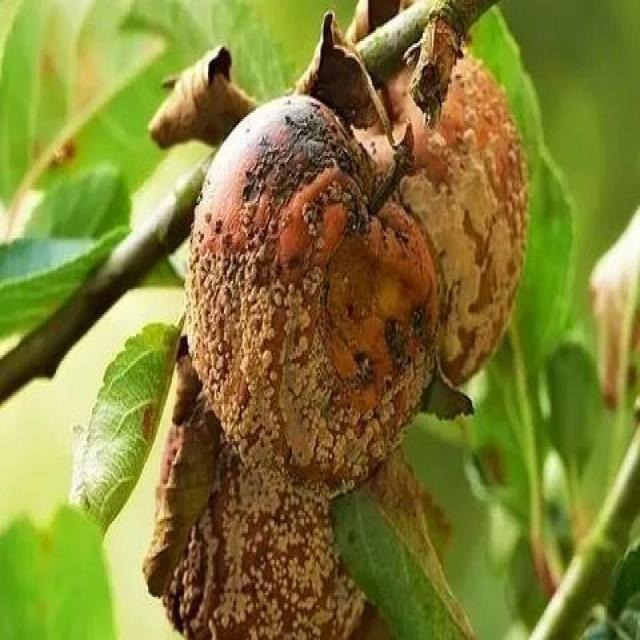Rotten: (175, 116, 442, 472)
